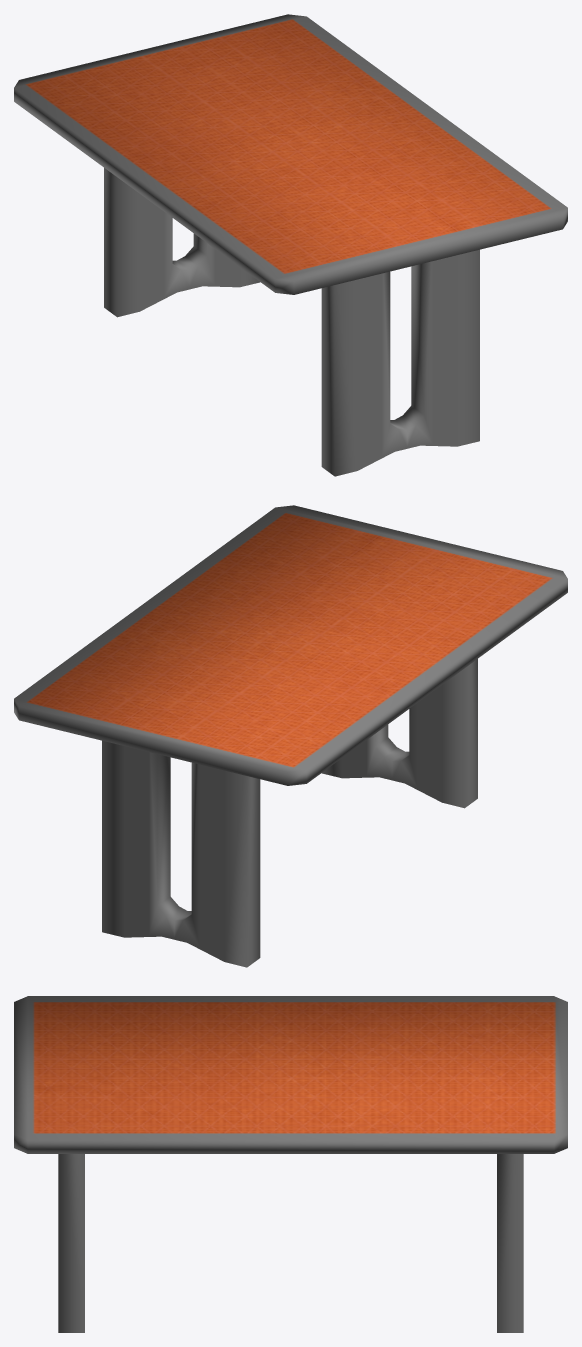
The model's file is Stol_2.fbx.
3 views of the same model, one above another, from view 1: azimuth 30°, elevation 25°; view 2: azimuth 150°, elevation 25°; view 3: azimuth 270°, elevation 25° (orthographic).
Parts seen in each view (by area): view 1: Stol_2; view 2: Stol_2; view 3: Stol_2.
Part boxes in pixels (bbox=[...]): Stol_2: bbox=[14, 14, 567, 476]; Stol_2: bbox=[14, 505, 567, 967]; Stol_2: bbox=[14, 996, 567, 1332].
Size of the model in its own units: 123 by 91.04 by 200.
